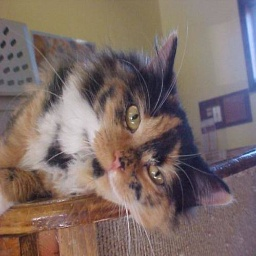cat: (0, 24, 241, 238)
